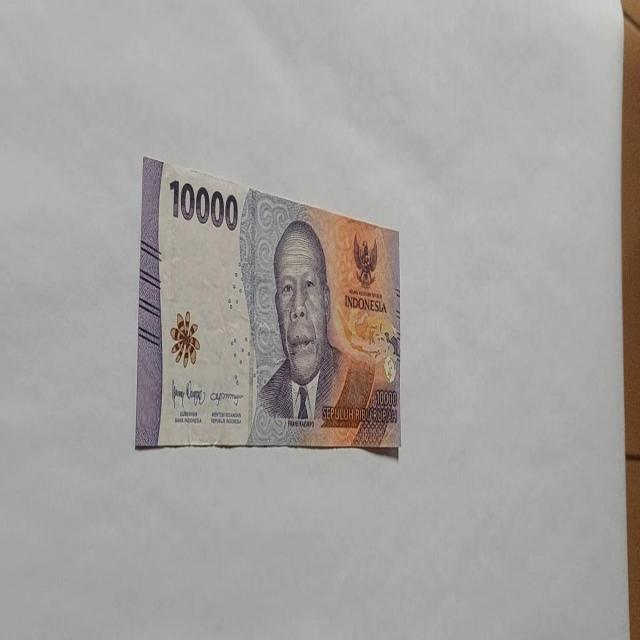Kertas: (134, 154, 402, 454), (168, 177, 239, 232)
